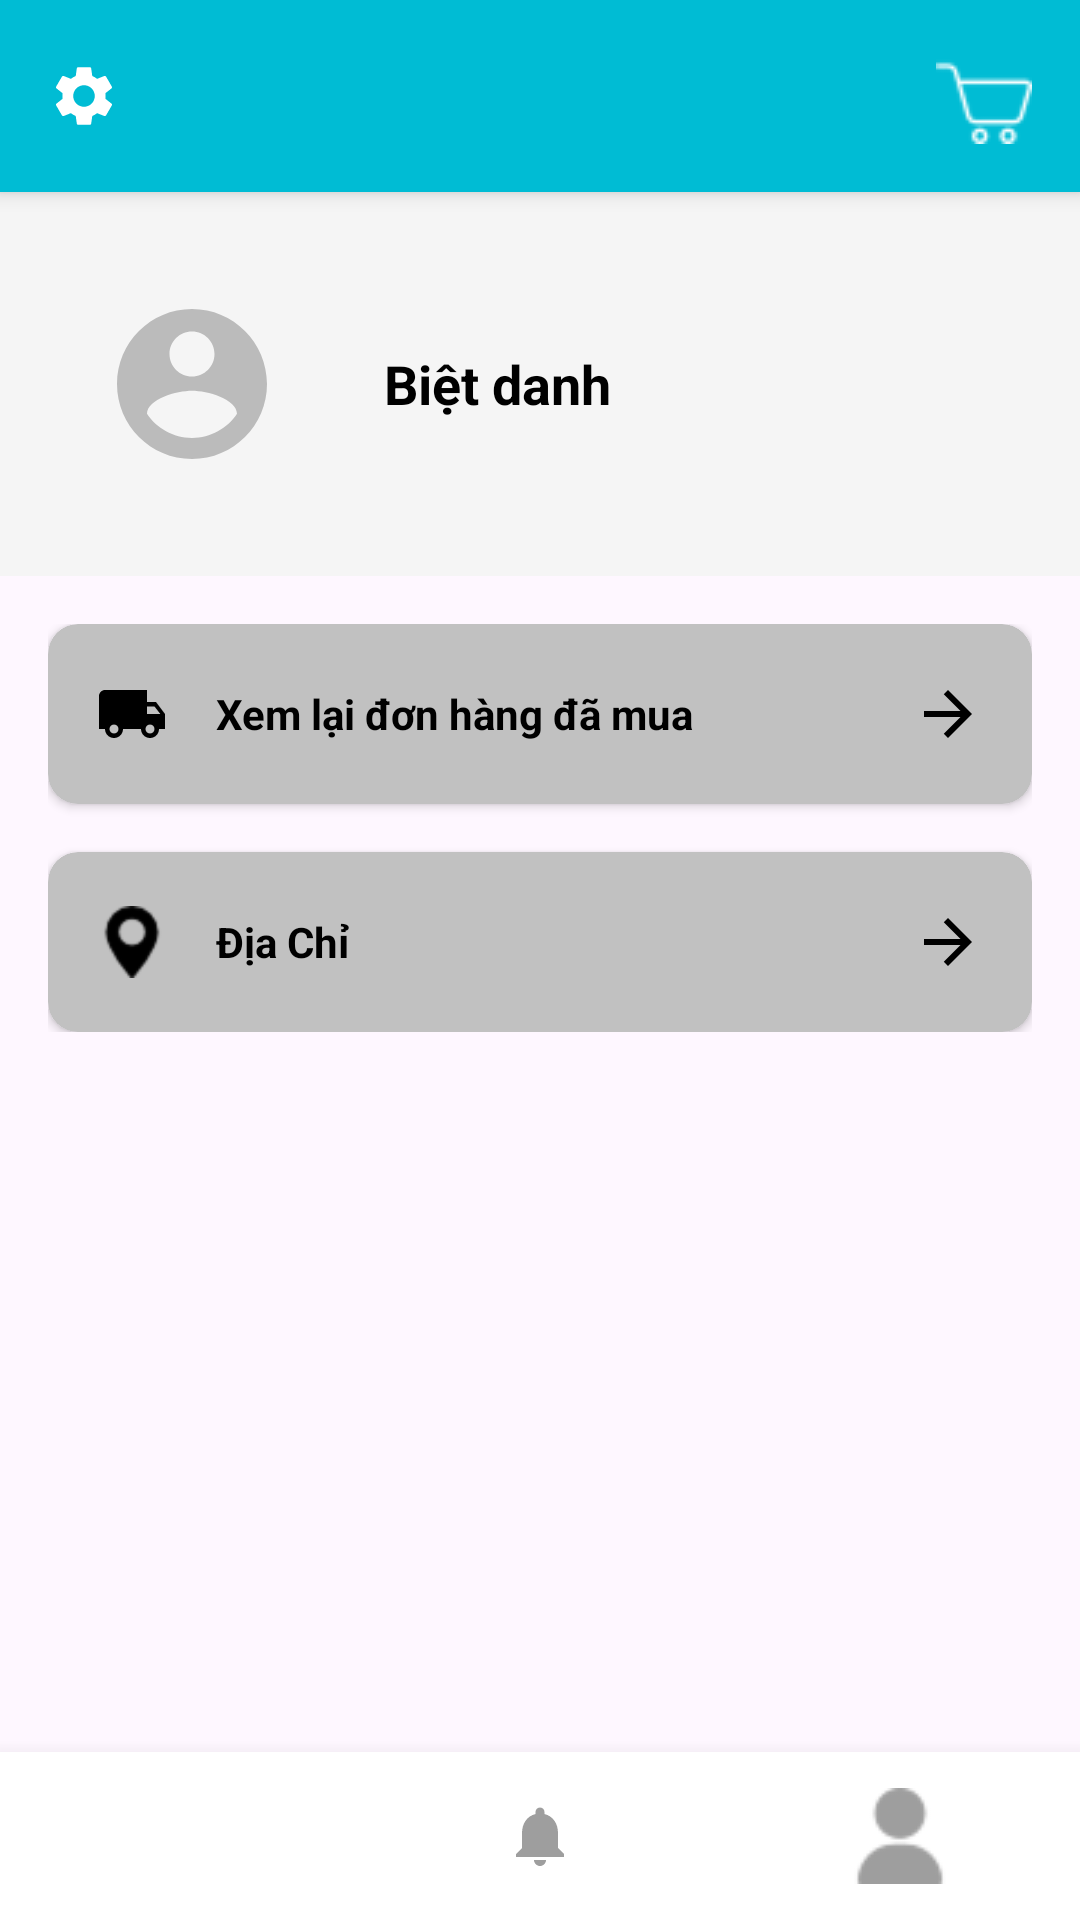

Named icons in this screenshot (1080 x 1920) and their bounding boxes, box=[x1, y1, x2, y2]:
account circle: box=[117, 309, 267, 459]
arrow forward: box=[924, 690, 972, 738], box=[924, 918, 972, 966]
cart: box=[936, 62, 1032, 144]
location on: box=[104, 906, 160, 978]
notifications: box=[516, 1807, 564, 1866]
person: box=[857, 1788, 943, 1884]
settings: box=[56, 67, 112, 125]
truck: box=[99, 690, 165, 738]
